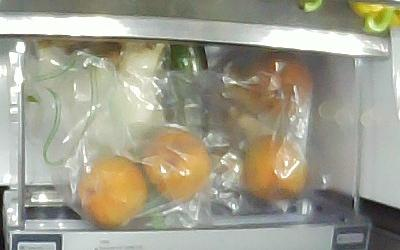peach_vinyl: (75, 157, 147, 225), (143, 132, 211, 201), (242, 134, 308, 198), (246, 62, 313, 117)
